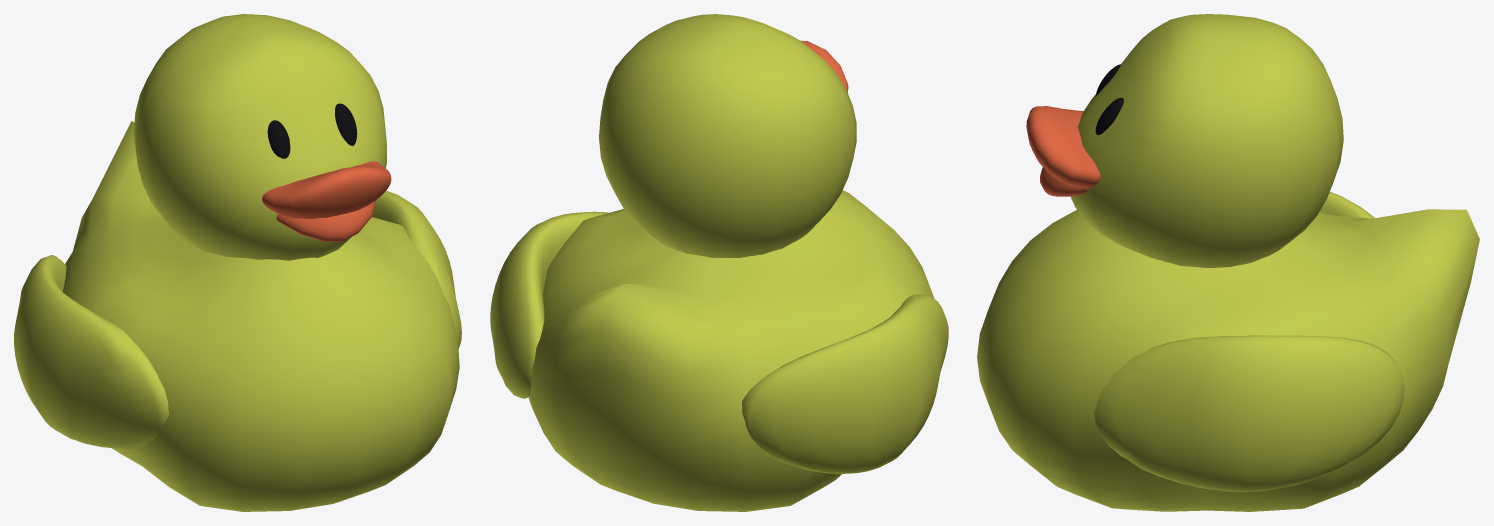
Rendered from duck_anim1.glb.
3 renders of one model, left to right at view 1: azimuth 30°, elevation 25°; view 2: azimuth 150°, elevation 25°; view 3: azimuth 270°, elevation 25°, orthographic. The views are drawn at different scales.
Visible parts, largest first — view 1: Duck_Normal_Combined.001; view 2: Duck_Normal_Combined.001; view 3: Duck_Normal_Combined.001.
Part boxes in pixels (x1,y1,x2,y2): Duck_Normal_Combined.001: (14,14,461,511); Duck_Normal_Combined.001: (490,14,948,511); Duck_Normal_Combined.001: (977,14,1479,511).
Size of the model in its own units: 0.0598 by 0.0604 by 0.0612.
Materials: 1 (1 with a texture image).
